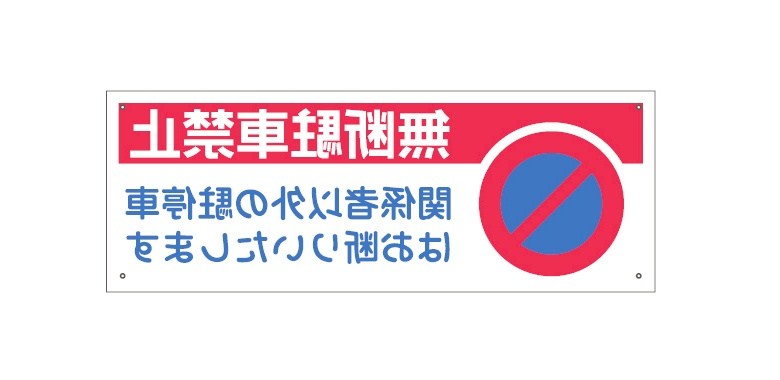Prohibition_sign: (474, 114, 635, 284)
